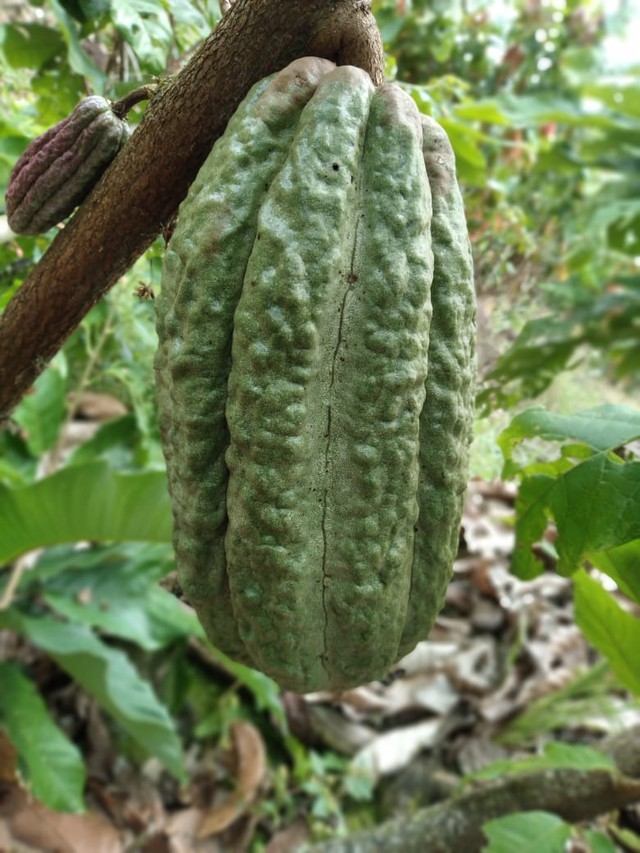Health: (115, 46, 510, 715)
